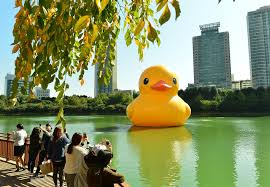duck_regular: (126, 64, 192, 127)
